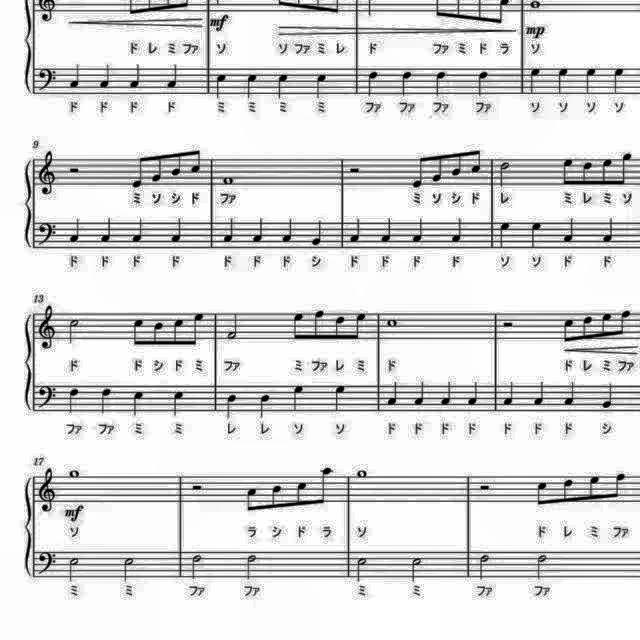Bass-clef: (34, 547, 60, 577), (35, 64, 59, 94), (36, 220, 60, 248), (36, 382, 58, 411)
Eighth-note: (318, 464, 338, 510), (409, 148, 427, 188), (130, 151, 148, 189), (618, 150, 636, 188), (188, 308, 205, 348), (130, 316, 148, 352), (242, 482, 262, 514), (532, 477, 552, 509), (559, 474, 577, 506), (311, 306, 327, 342), (586, 472, 604, 504), (268, 480, 286, 512), (291, 478, 309, 510), (428, 148, 444, 184), (148, 150, 164, 186), (611, 470, 629, 502), (290, 310, 306, 346), (170, 316, 186, 350), (352, 308, 368, 342), (168, 147, 184, 180), (618, 306, 634, 338), (580, 313, 596, 345), (332, 314, 348, 346), (467, 146, 483, 178), (186, 146, 202, 178), (599, 156, 615, 188), (560, 316, 576, 348), (560, 154, 576, 186), (598, 308, 614, 339), (150, 320, 166, 350), (450, 148, 464, 180), (578, 158, 594, 186)
Full-note: (220, 172, 237, 188), (524, 0, 546, 12), (65, 466, 83, 480), (350, 468, 372, 479), (384, 315, 401, 329)
Half-note: (532, 550, 552, 582), (240, 551, 260, 583), (188, 551, 208, 583), (223, 307, 241, 341), (119, 552, 137, 584), (408, 552, 426, 584), (495, 158, 513, 190), (65, 318, 83, 349), (476, 552, 494, 582), (354, 553, 371, 583), (66, 554, 82, 584)
Half-rest: (188, 480, 208, 496), (477, 481, 495, 495), (65, 163, 83, 177), (346, 163, 364, 177), (502, 318, 518, 330)
Quarter-note: (430, 68, 450, 100), (583, 64, 601, 96), (526, 64, 544, 96), (289, 381, 307, 413), (363, 68, 381, 100), (397, 68, 415, 100), (611, 64, 629, 96), (554, 64, 572, 96), (332, 381, 350, 413), (475, 66, 493, 98), (170, 388, 188, 419), (384, 378, 402, 408), (222, 391, 240, 421), (599, 380, 617, 410), (599, 217, 617, 247), (130, 389, 148, 419), (168, 216, 186, 246), (163, 62, 181, 92), (212, 72, 230, 102), (130, 217, 148, 247), (410, 216, 428, 246), (378, 216, 396, 246), (241, 70, 259, 100), (98, 386, 114, 418), (528, 220, 544, 252), (308, 216, 324, 248), (66, 386, 82, 418), (448, 214, 464, 246), (68, 214, 84, 246), (255, 392, 272, 422), (220, 216, 237, 246), (312, 72, 330, 100), (496, 221, 512, 251), (68, 62, 84, 92), (280, 217, 296, 247), (562, 215, 578, 245), (534, 377, 550, 407), (562, 377, 578, 407), (500, 378, 516, 408), (276, 70, 292, 100), (464, 379, 480, 409), (96, 62, 112, 92), (250, 216, 266, 246), (98, 216, 114, 246), (440, 379, 456, 409), (128, 61, 144, 90), (412, 379, 428, 408), (348, 218, 364, 246)
Treble-clef: (37, 147, 61, 197), (35, 466, 59, 516), (34, 306, 56, 354)
